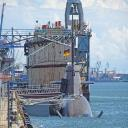submarine: (50, 10, 107, 121)
